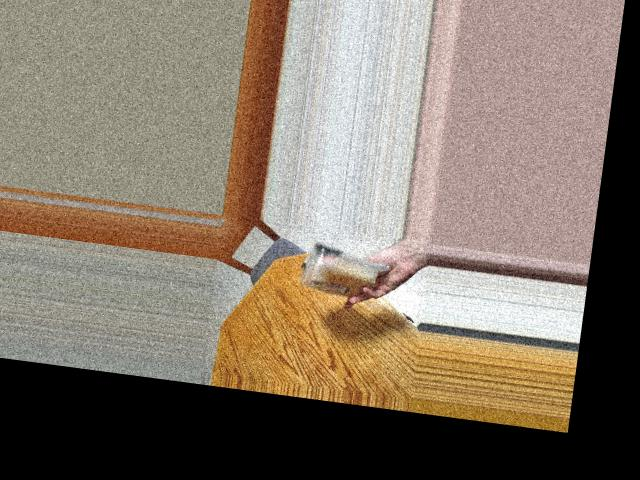cheese: (304, 247, 376, 298)
